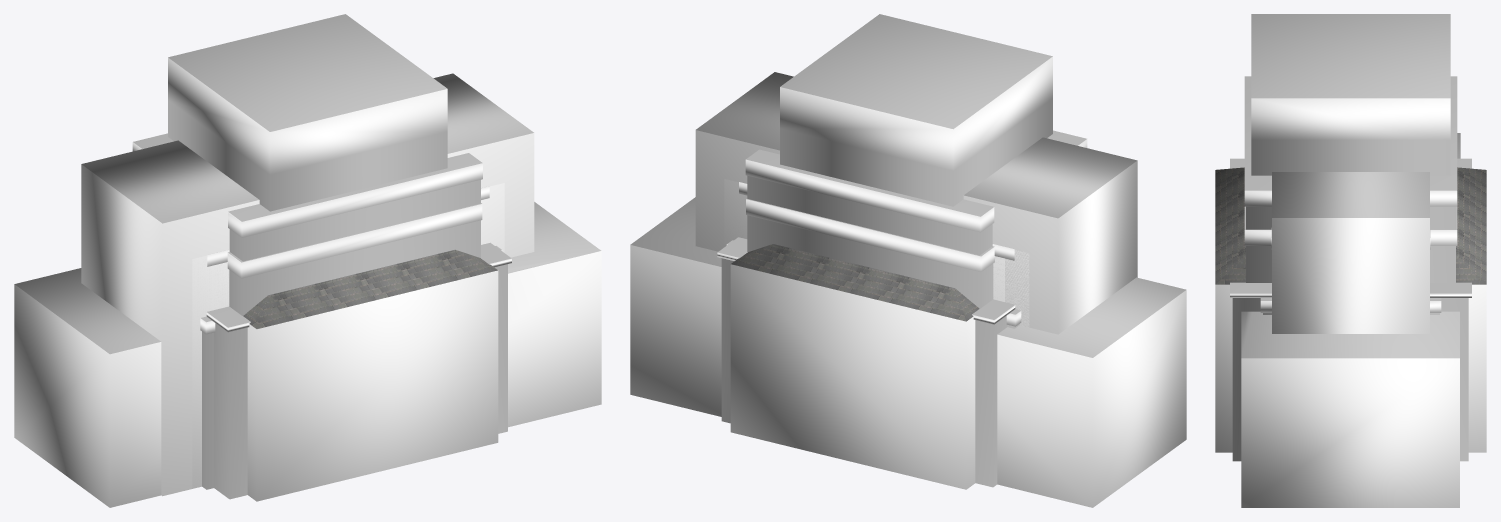
The model's file is buildings.fbx.
3 renders of one model, left to right at view 1: azimuth 30°, elevation 25°; view 2: azimuth 150°, elevation 25°; view 3: azimuth 270°, elevation 25°, orthographic. The views are drawn at different scales.
Parts seen in each view (by area): view 1: haus_06, haus_08, haus_11b, haus_13, haus_10a, haus_04, haus_10b, haus_12a, haus_05; view 2: haus_08, haus_06, haus_11b, haus_13, haus_10a, haus_04, haus_10b, haus_12a; view 3: haus_08, haus_11b, haus_13, haus_06, haus_10a, haus_04, haus_10b, haus_05.
Part boxes in pixels (x1=…): haus_06: x1=243, y1=249, x2=498, y2=501; haus_08: x1=14, y1=202, x2=601, y2=507; haus_11b: x1=168, y1=14, x2=447, y2=211; haus_13: x1=81, y1=73, x2=534, y2=496; haus_10a: x1=132, y1=133, x2=482, y2=315; haus_04: x1=206, y1=242, x2=511, y2=499; haus_10b: x1=227, y1=203, x2=482, y2=315; haus_12a: x1=192, y1=183, x2=504, y2=488; haus_05: x1=200, y1=246, x2=502, y2=489; haus_08: x1=630, y1=197, x2=1186, y2=507; haus_06: x1=730, y1=244, x2=979, y2=489; haus_11b: x1=780, y1=14, x2=1052, y2=206; haus_13: x1=695, y1=72, x2=1137, y2=334; haus_10a: x1=745, y1=130, x2=1087, y2=308; haus_04: x1=717, y1=237, x2=1015, y2=487; haus_10b: x1=746, y1=198, x2=994, y2=308; haus_12a: x1=724, y1=179, x2=1029, y2=327; haus_08: x1=1241, y1=133, x2=1460, y2=507; haus_11b: x1=1251, y1=14, x2=1450, y2=175; haus_13: x1=1272, y1=172, x2=1429, y2=333; haus_06: x1=1215, y1=167, x2=1486, y2=452; haus_10a: x1=1244, y1=76, x2=1457, y2=282; haus_04: x1=1230, y1=158, x2=1471, y2=461; haus_10b: x1=1244, y1=206, x2=1457, y2=245; haus_05: x1=1260, y1=298, x2=1441, y2=314.
Size of the model in its own units: 2245 by 1572 by 1142.
